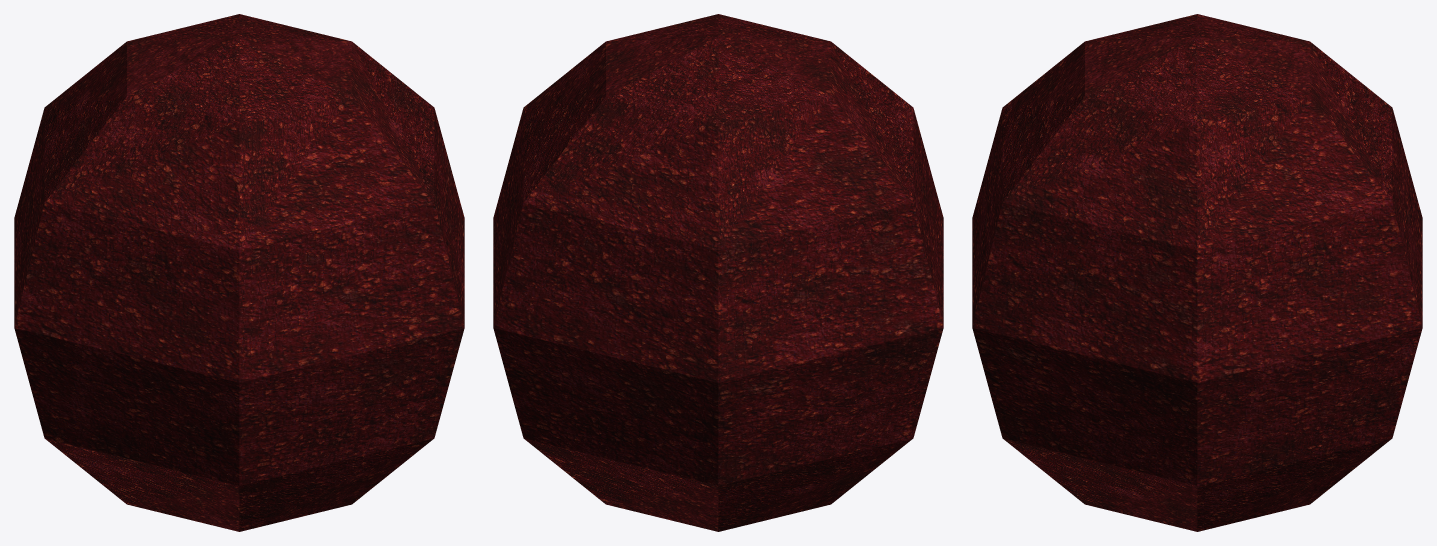
Rendered from food.fbx.
The picture shows the model from 3 angles, left to right: view 1: azimuth 30°, elevation 25°; view 2: azimuth 150°, elevation 25°; view 3: azimuth 270°, elevation 25°; orthographic projection.
Parts seen in each view (by area): view 1: pSphere1; view 2: pSphere1; view 3: pSphere1.
Boxes of the visible parts, x1=… form: pSphere1: x1=14, y1=14, x2=464, y2=531; pSphere1: x1=493, y1=14, x2=943, y2=531; pSphere1: x1=972, y1=14, x2=1422, y2=531.
Bounding box in the file's own units: 0.0243 × 0.0243 × 0.021.
1 material, 1 textured.
